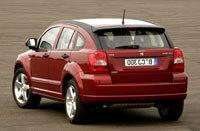Car: (6, 10, 193, 125)
